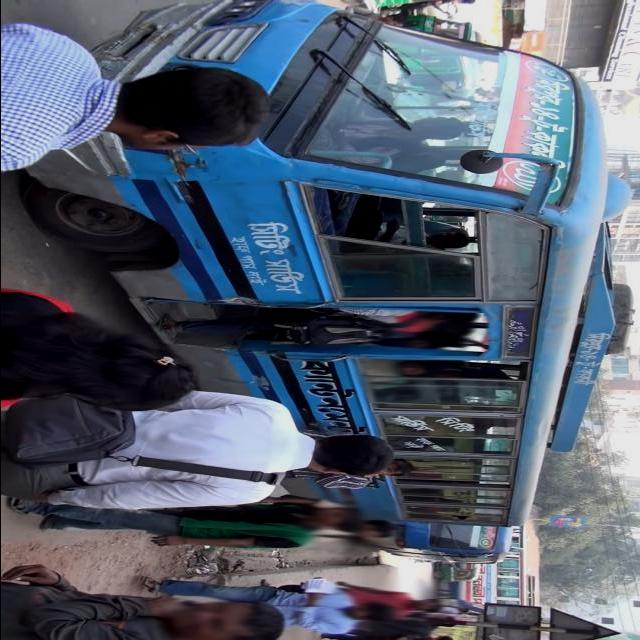bus: (18, 1, 635, 528)
